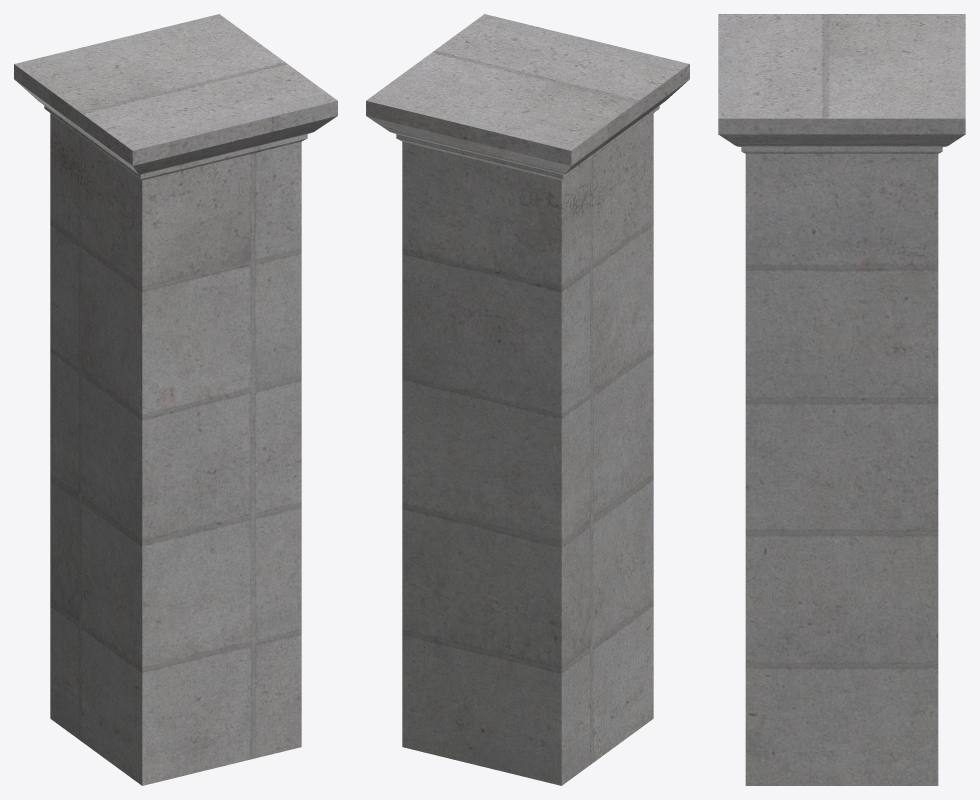
Rendered from colum_2.FBX.
The picture shows the model from 3 angles, left to right: view 1: azimuth 30°, elevation 25°; view 2: azimuth 150°, elevation 25°; view 3: azimuth 270°, elevation 25°; orthographic projection. The views are drawn at different scales.
Visible parts, largest first — view 1: 3zhu_38; view 2: 3zhu_38; view 3: 3zhu_38.
Boxes of the visible parts, x1=… form: 3zhu_38: x1=14, y1=14, x2=337, y2=785; 3zhu_38: x1=366, y1=14, x2=689, y2=785; 3zhu_38: x1=718, y1=14, x2=965, y2=785.
Bounding box in the file's own units: 1171 × 3545 × 1171.
